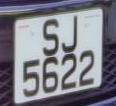2: (60, 52, 80, 96), (78, 48, 98, 90)
5: (20, 55, 41, 105)
6: (40, 56, 62, 98)
J: (60, 15, 82, 57)
S: (40, 17, 62, 60)
